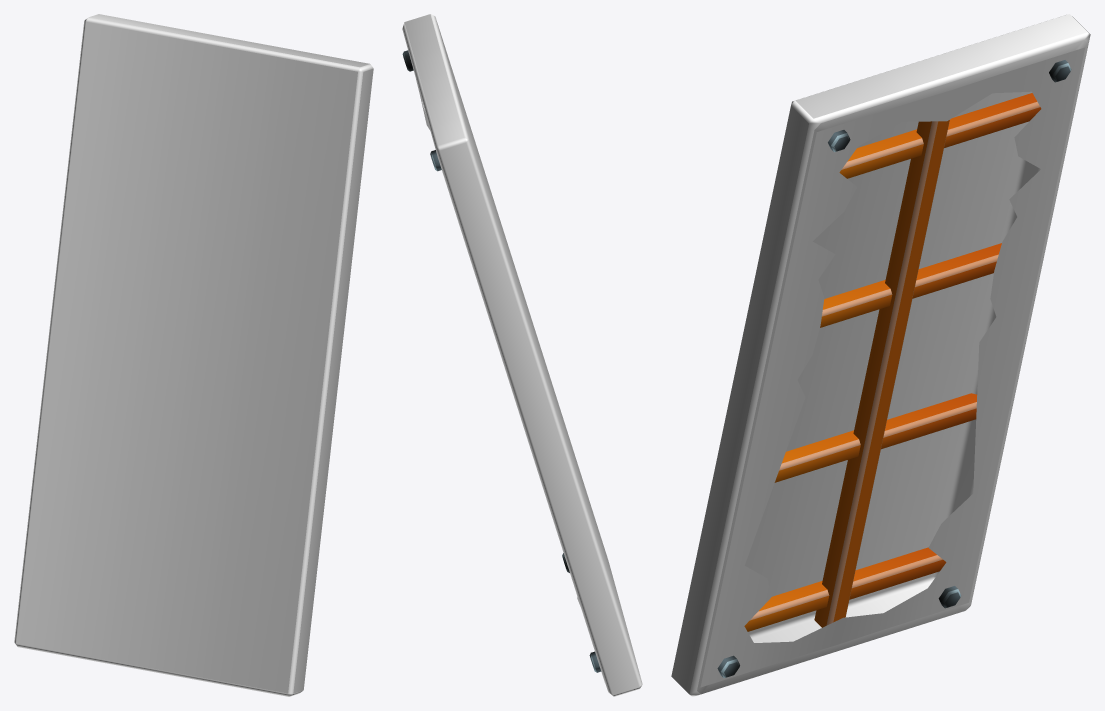
The model's file is artist-canvas.glb.
3 views of the same model, side by side, from view 1: azimuth 30°, elevation 25°; view 2: azimuth 150°, elevation 25°; view 3: azimuth 270°, elevation 25° (orthographic). The views are drawn at different scales.
Visible parts, largest first — view 1: Object_37; view 2: Object_37; view 3: Object_37.
Boxes of the visible parts, bbox=[...] form: Object_37: bbox=[14, 14, 373, 696]; Object_37: bbox=[402, 14, 642, 696]; Object_37: bbox=[671, 14, 1090, 696].
Bounding box in the file's own units: 0.6828 × 1.25 × 0.7212.
Materials: 1 (1 with a texture image).
